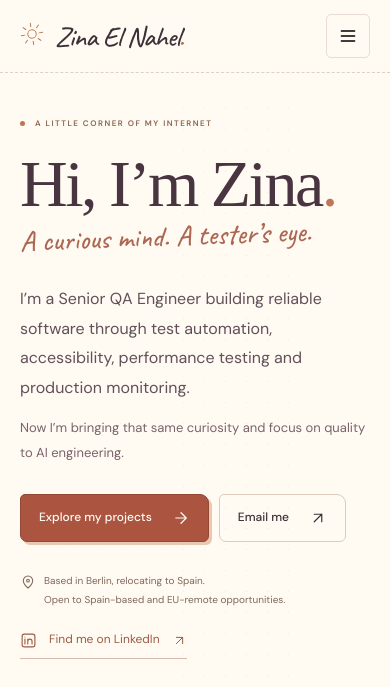
it: mobile navigation expands and closes after choosing a section
This screenshot has width=390, height=687.
Click the button named "Open navigation".
click(348, 36)  # box [326,14,370,58]
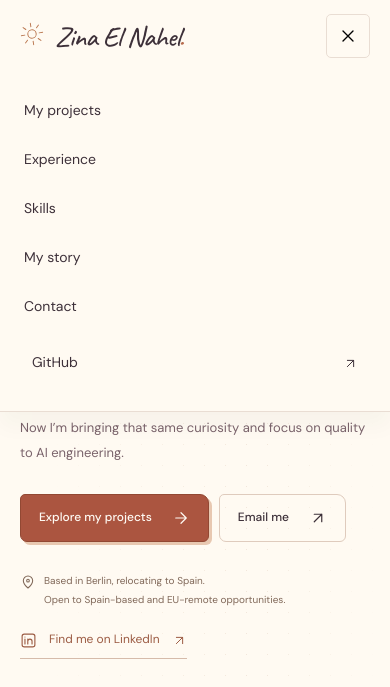
Now the button named "Open navigation" is expanded, box [326,14,370,58]
Click the link "Experience".
click(60, 159)  # box [24,150,96,168]
(page scrolled)
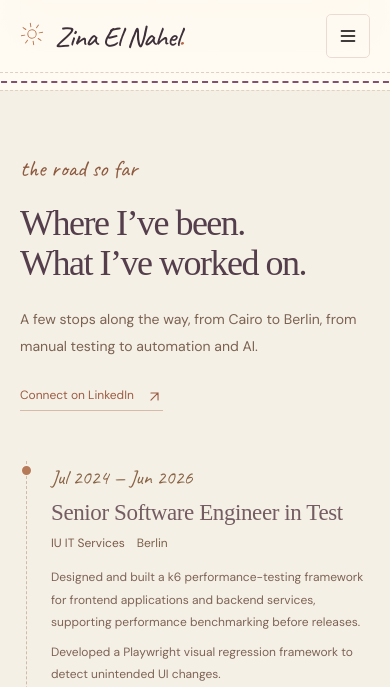
Now the button named "Open navigation" is collapsed, box [326,14,370,58]
